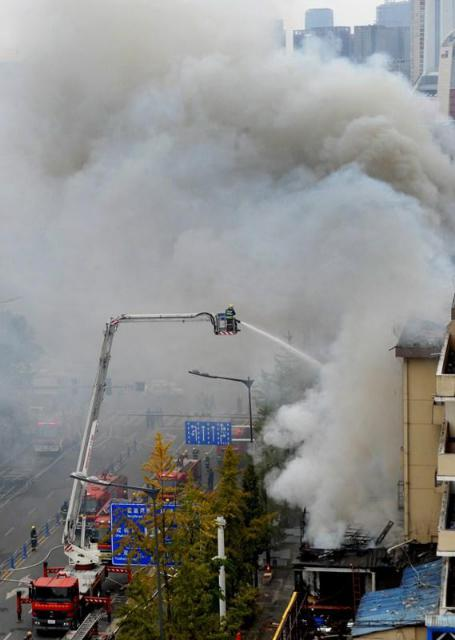smoke: (5, 0, 272, 444), (281, 49, 398, 531), (407, 87, 452, 357)
